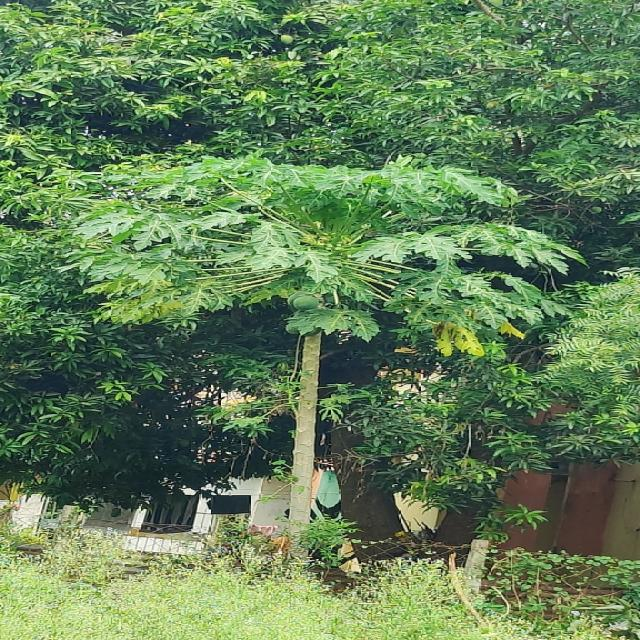Papaya-Tree: (101, 152, 536, 553)
